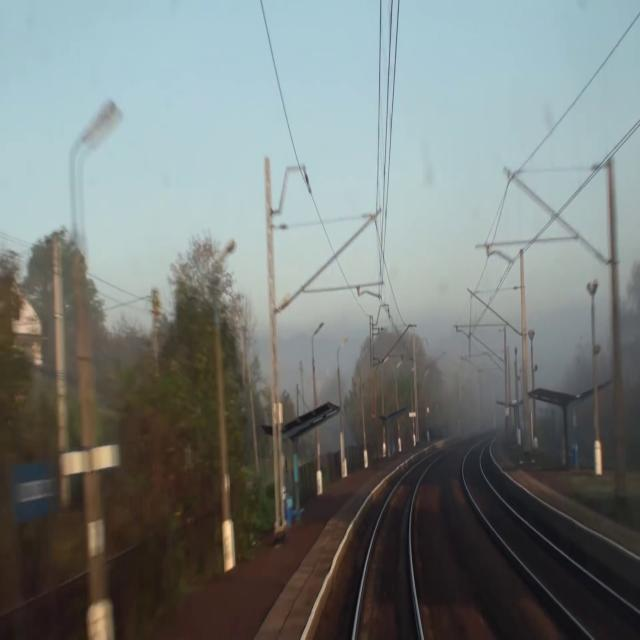rail-track: (465, 447, 640, 639), (357, 463, 425, 639)
